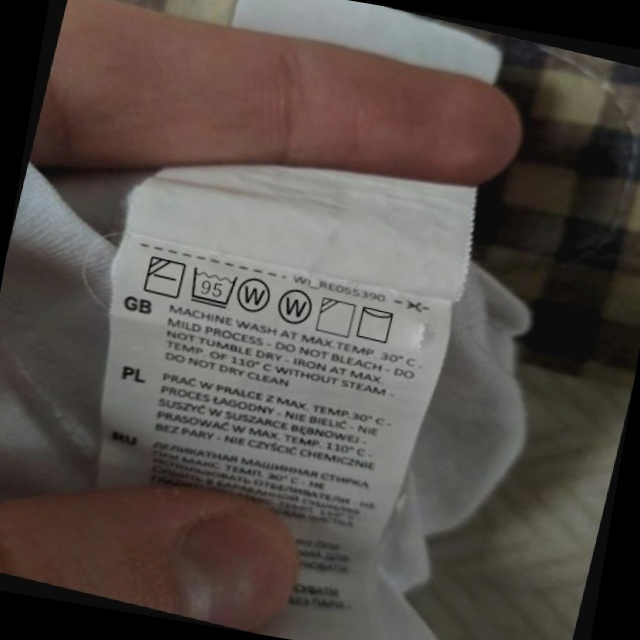95C: (184, 263, 241, 312)
dry_flat_in_shade: (140, 251, 189, 302)
line_dry: (352, 301, 400, 348)
shade_dry: (313, 293, 360, 341)
wet_clean: (273, 284, 318, 331), (234, 270, 278, 318)
